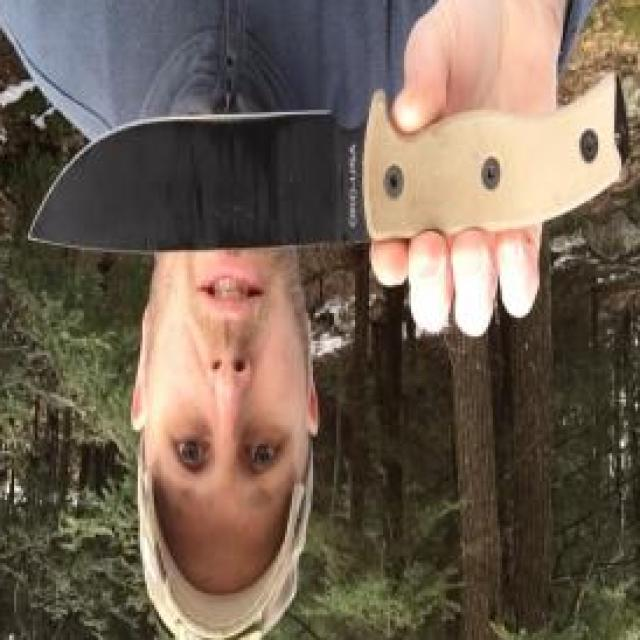knife: (0, 86, 498, 344)
